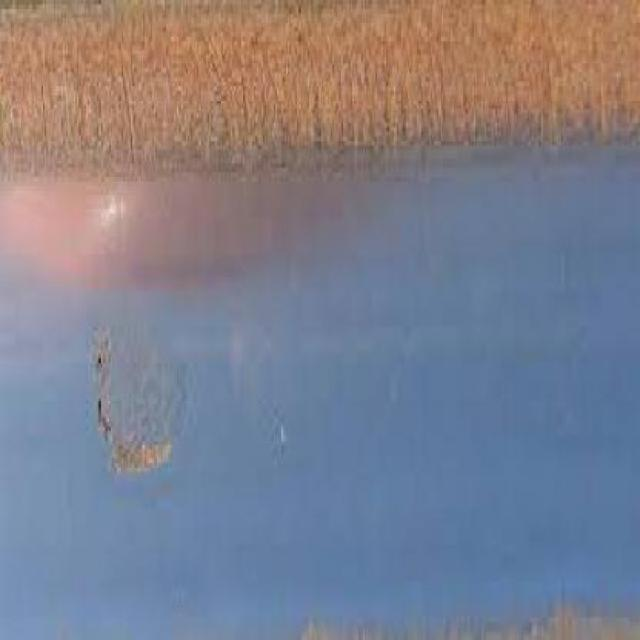defective: (7, 134, 640, 640)
